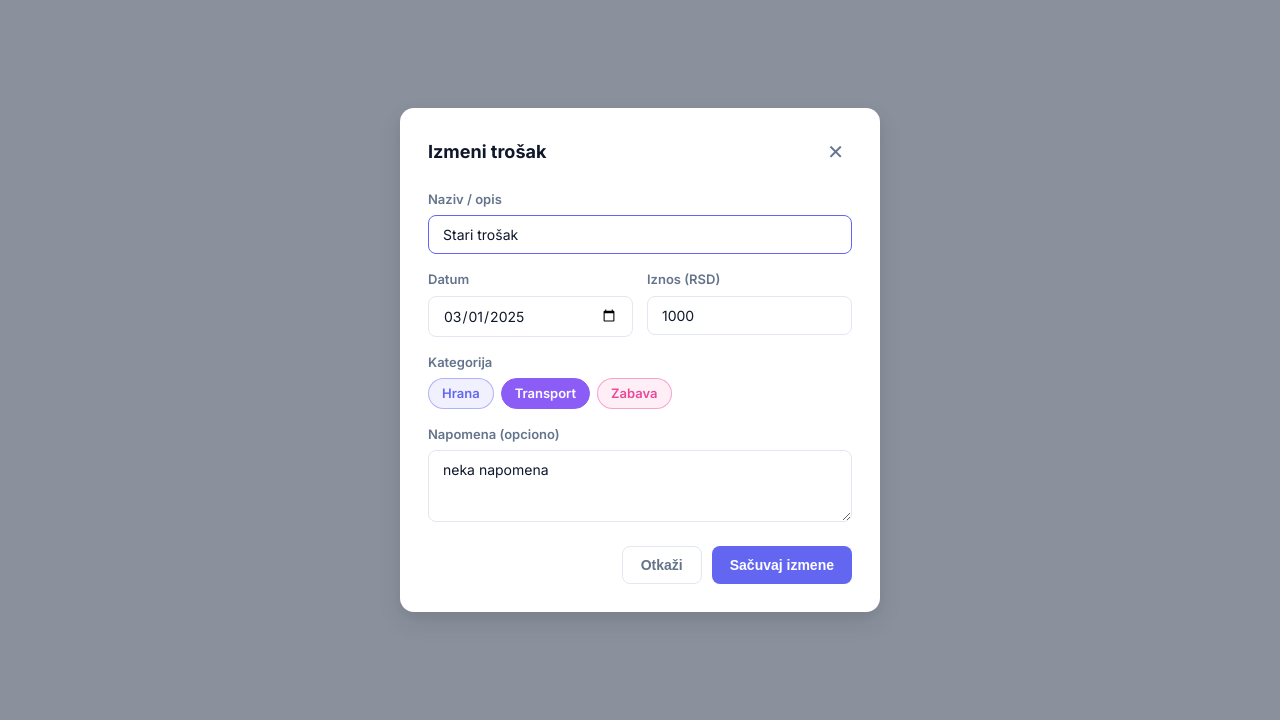
ExpenseModal — edit mode › shows validation error when title is cleared in edit mode
The image size is (1280, 720).
Clear the field showing "Stari trošak" at (640, 235), box x1=428 y1=215 x2=852 y2=254
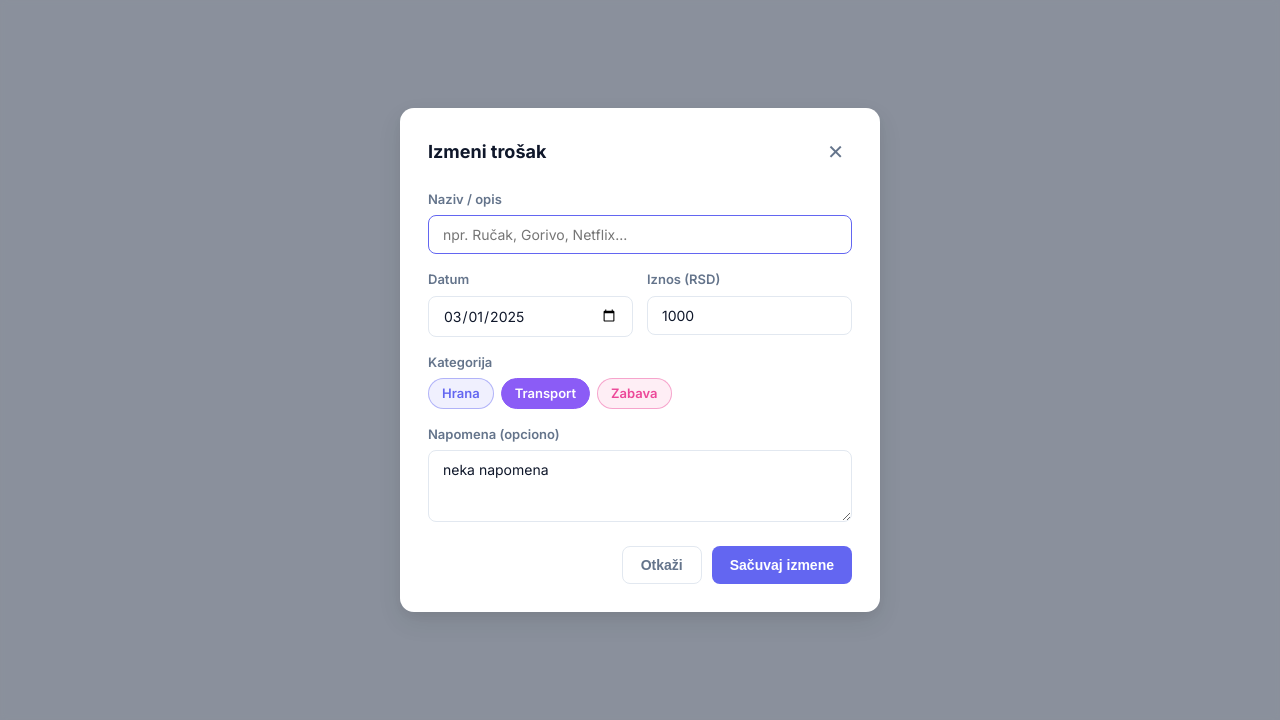
Click the button "Sačuvaj izmene".
click(782, 565)  # box x1=712 y1=546 x2=852 y2=584
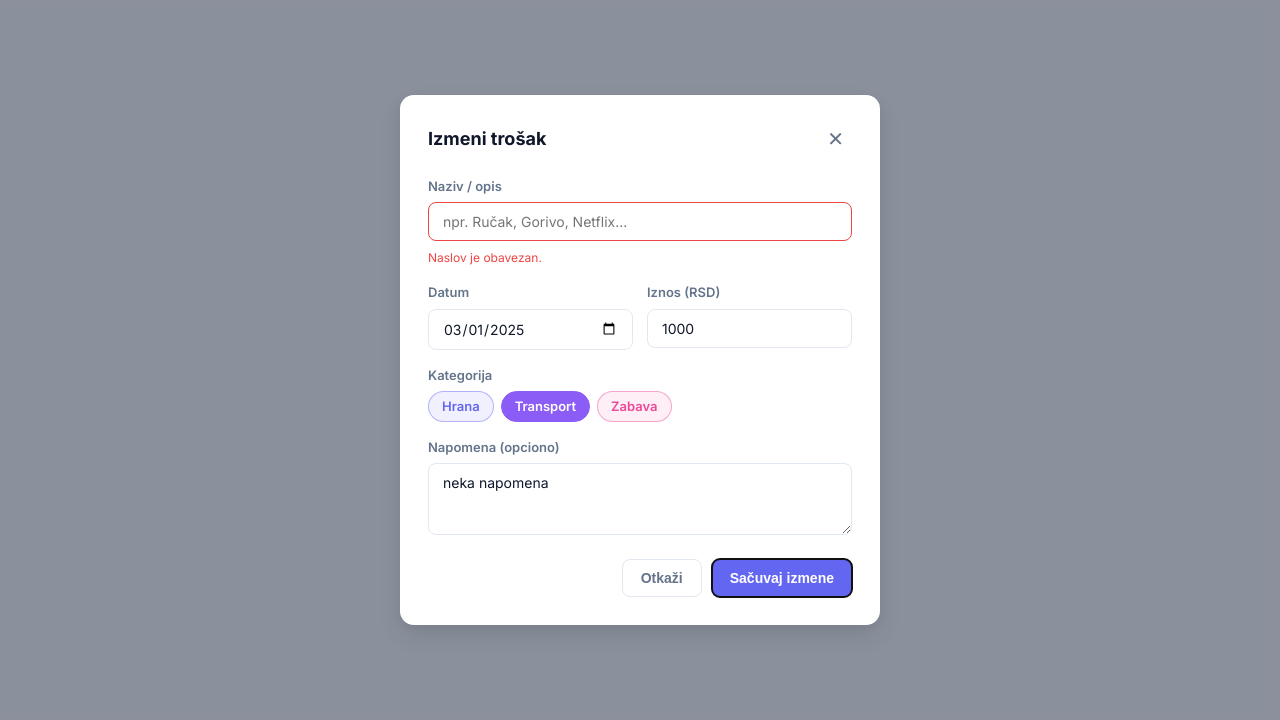
Check: the text "Naslov je obavezan." is shown, box x1=428 y1=250 x2=542 y2=265
